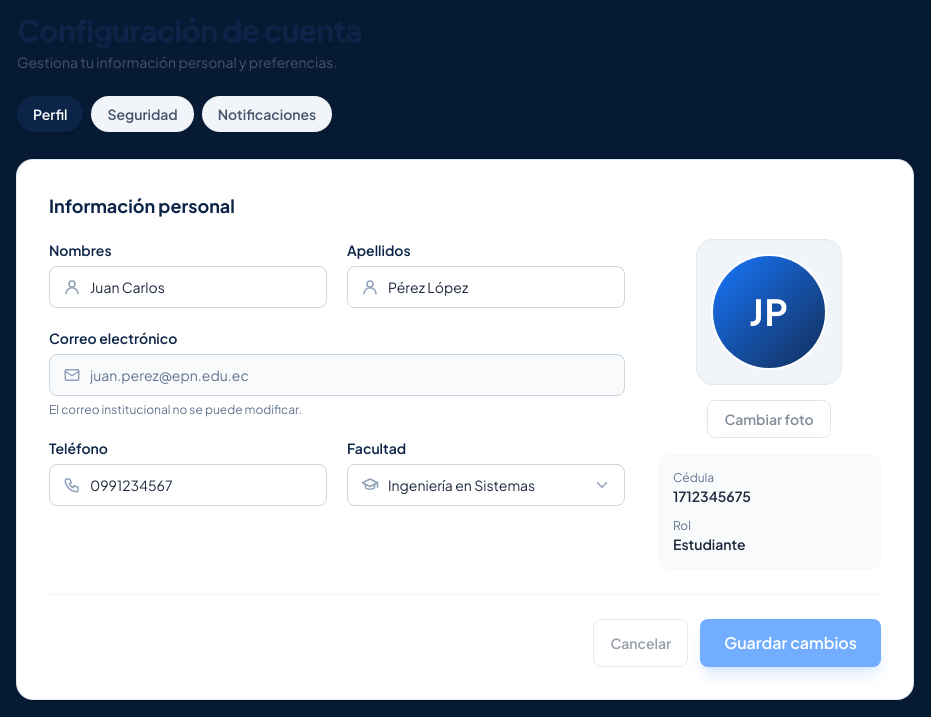
Test: Perfil (HU-002) › muestra los datos y guarda los cambios
Expected: the text "1712345675" is shown, [673,487,751,505]
Replace the text in the field labelled "Teléfono" with "0987654321" at (188, 485), box [49,464,327,506]
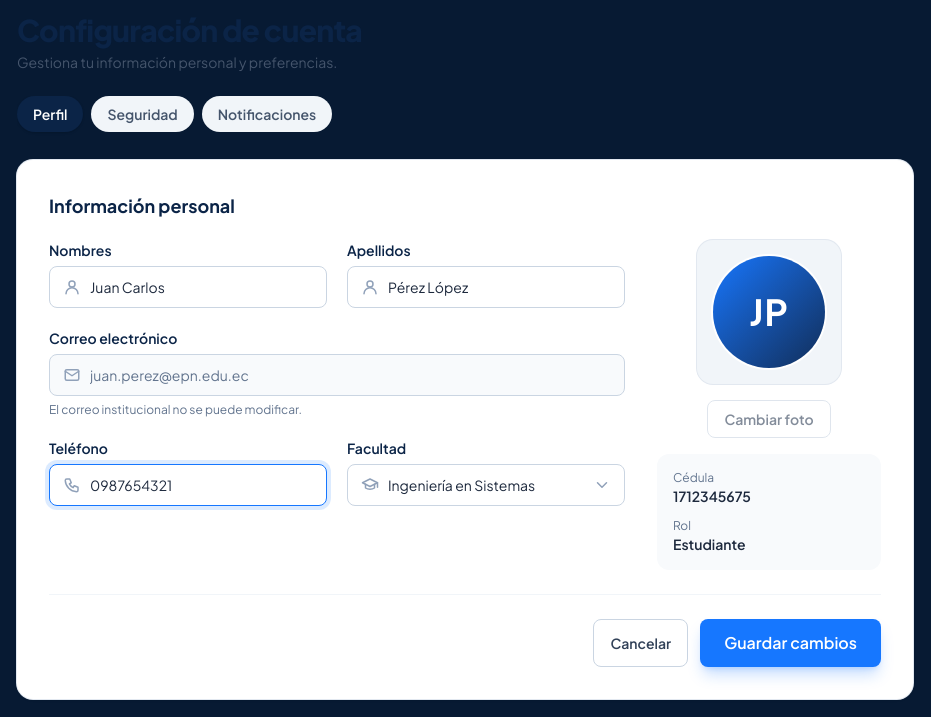
Click the button "Guardar cambios" at (791, 643), box [700,619,881,667]
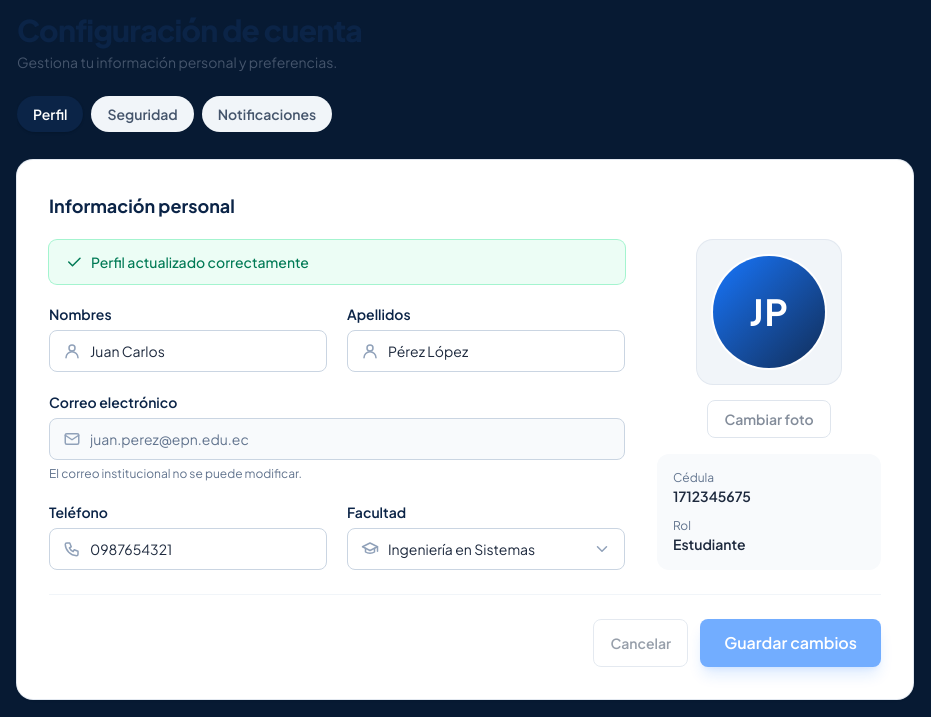
Expected: the text "Perfil actualizado correctamente" is shown, [91,252,309,272]
